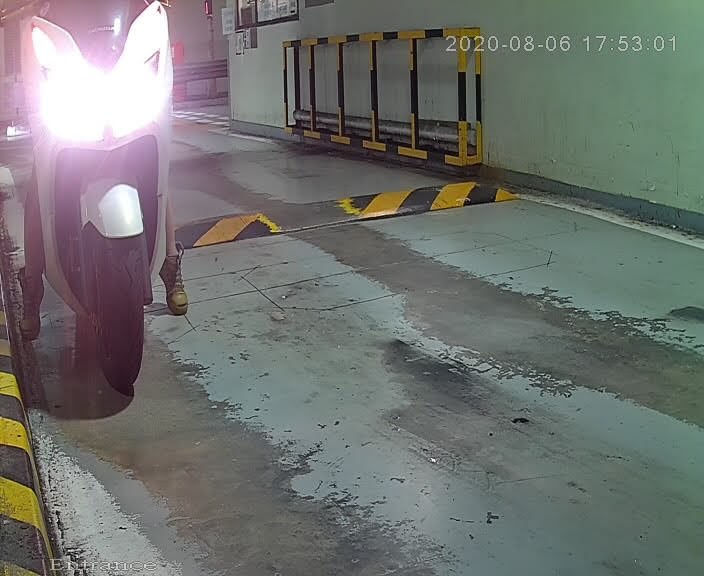motorcycle: (6, 1, 209, 406)
